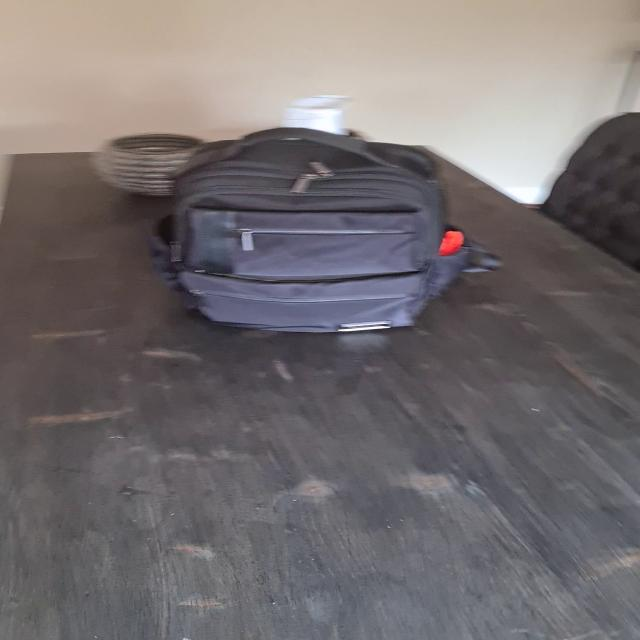backpack: (134, 120, 482, 339)
